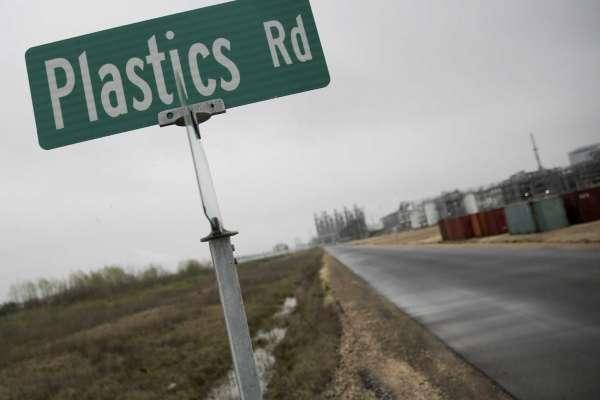language: (30, 1, 323, 140)
streetPlate: (159, 105, 281, 400)
